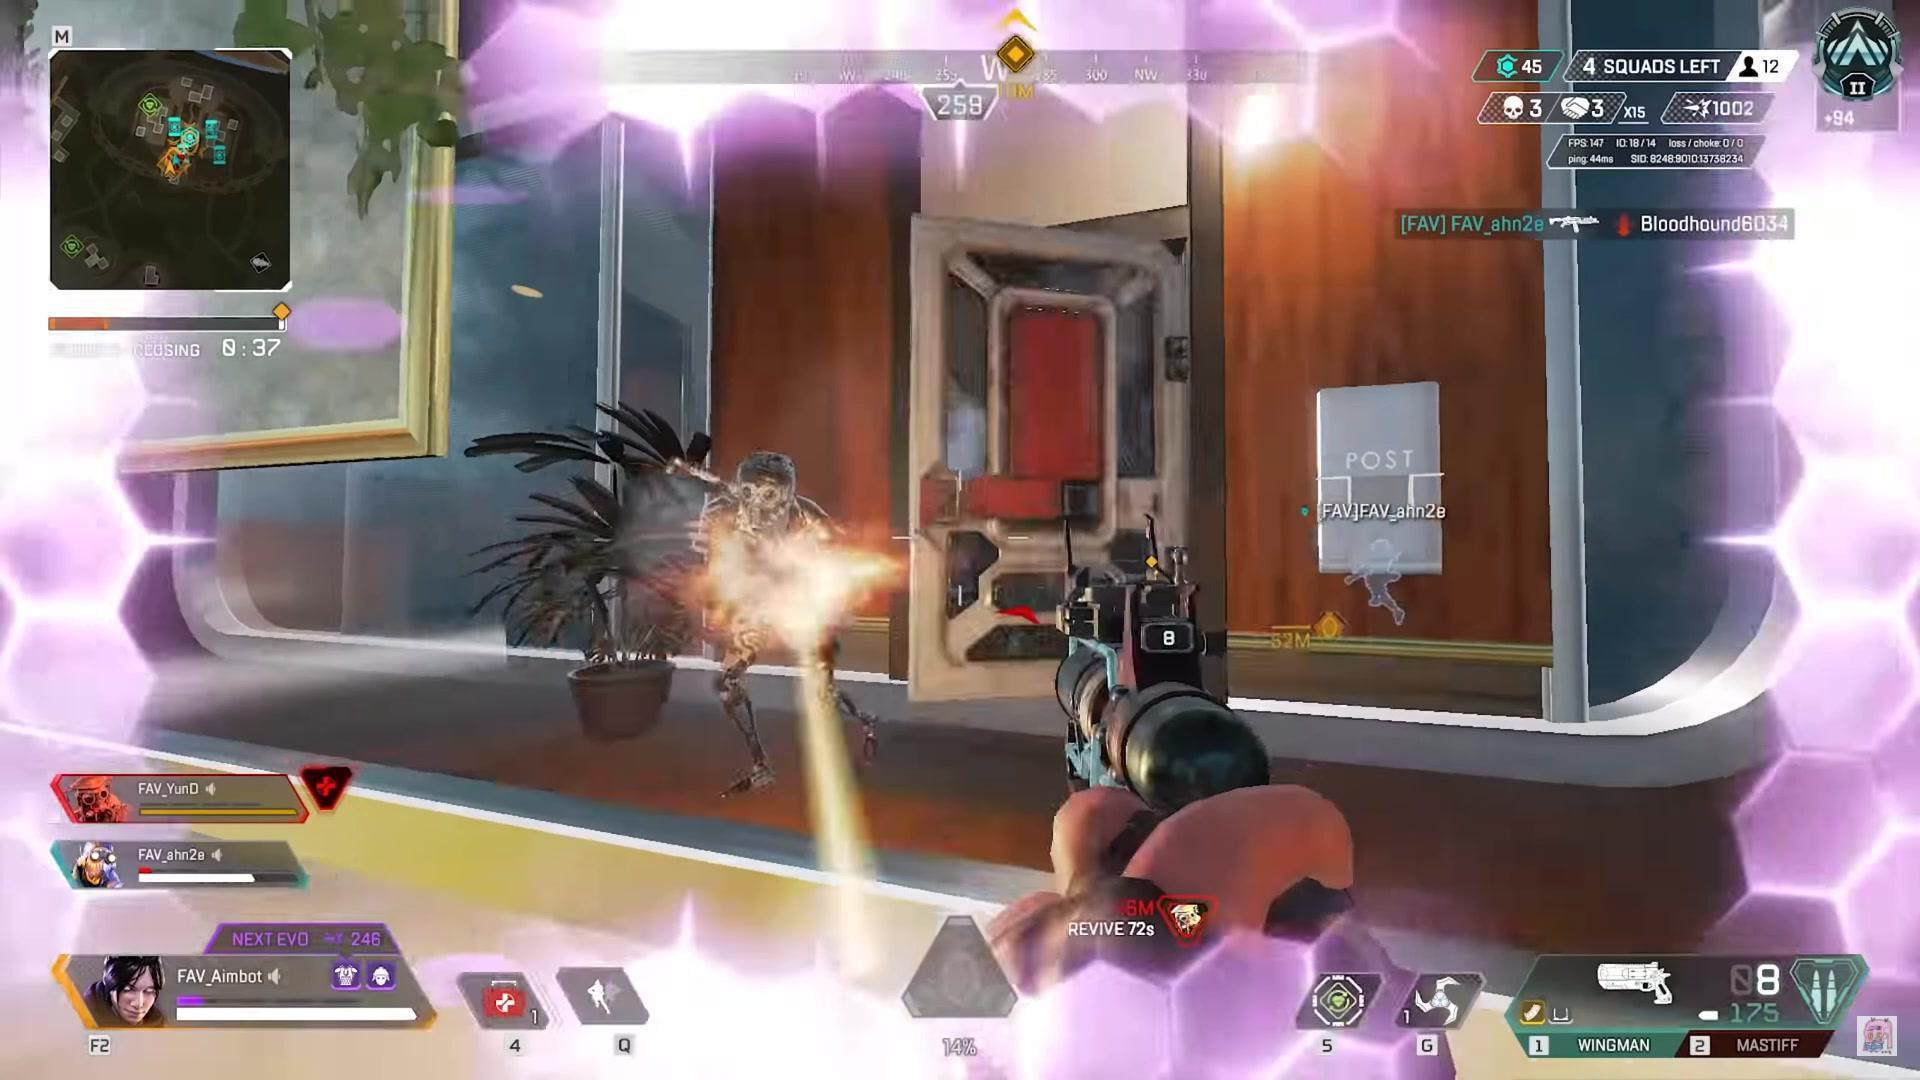avatar: (671, 456, 882, 790)
object: (704, 525, 856, 645)
